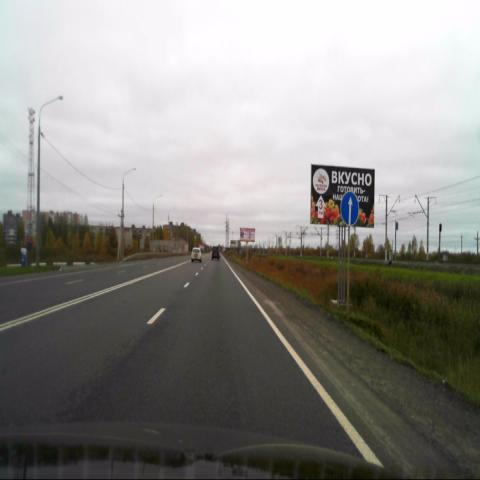4_1_1: (340, 190, 360, 228)
